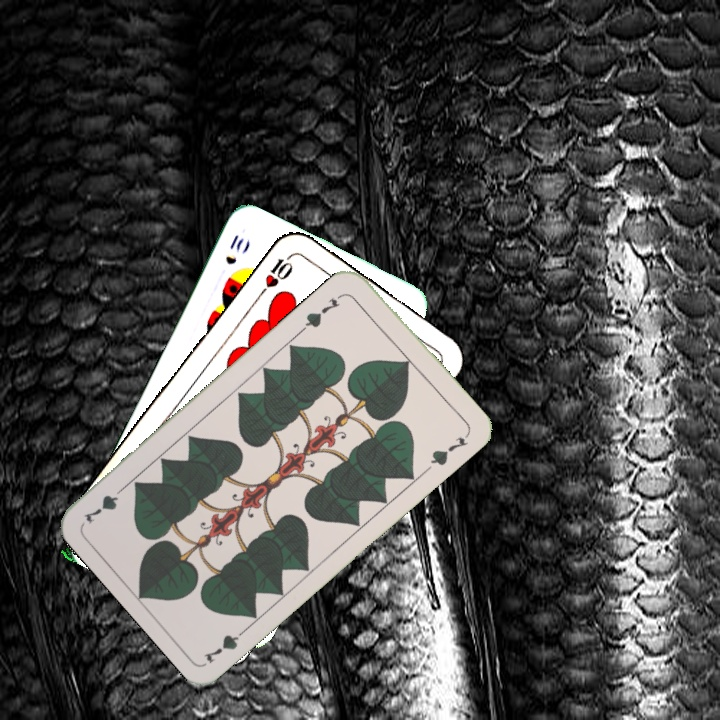G7: (199, 622, 252, 666), (299, 289, 347, 333)
H10: (254, 249, 297, 299)
S10: (221, 230, 247, 268)
